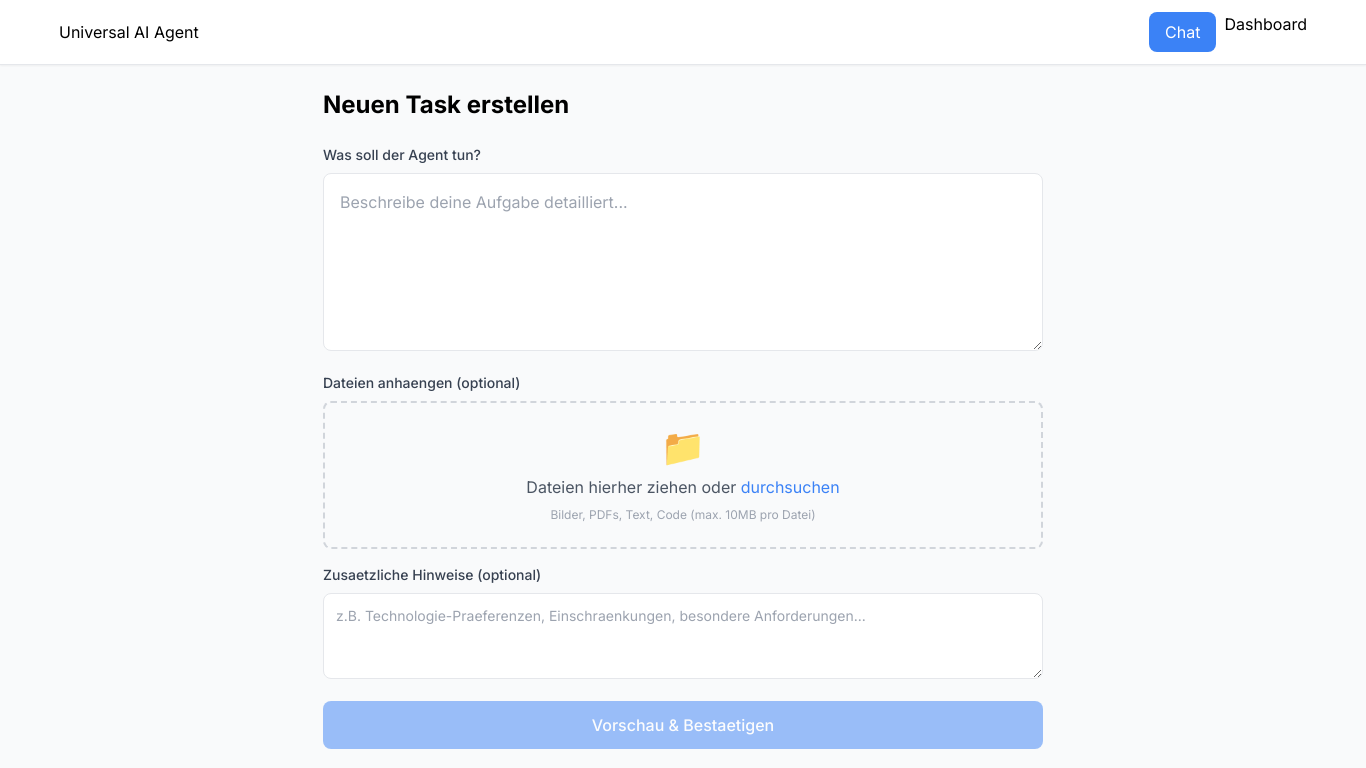
Test case: Chat Page › should show confirmation dialog after submitting
This screenshot has width=1366, height=768.
Type "Erstelle eine React Komponente" into the text box with placeholder "Beschreibe deine Aufgabe detailliert..." at {"x": 683, "y": 262}, box [323,173,1043,351]
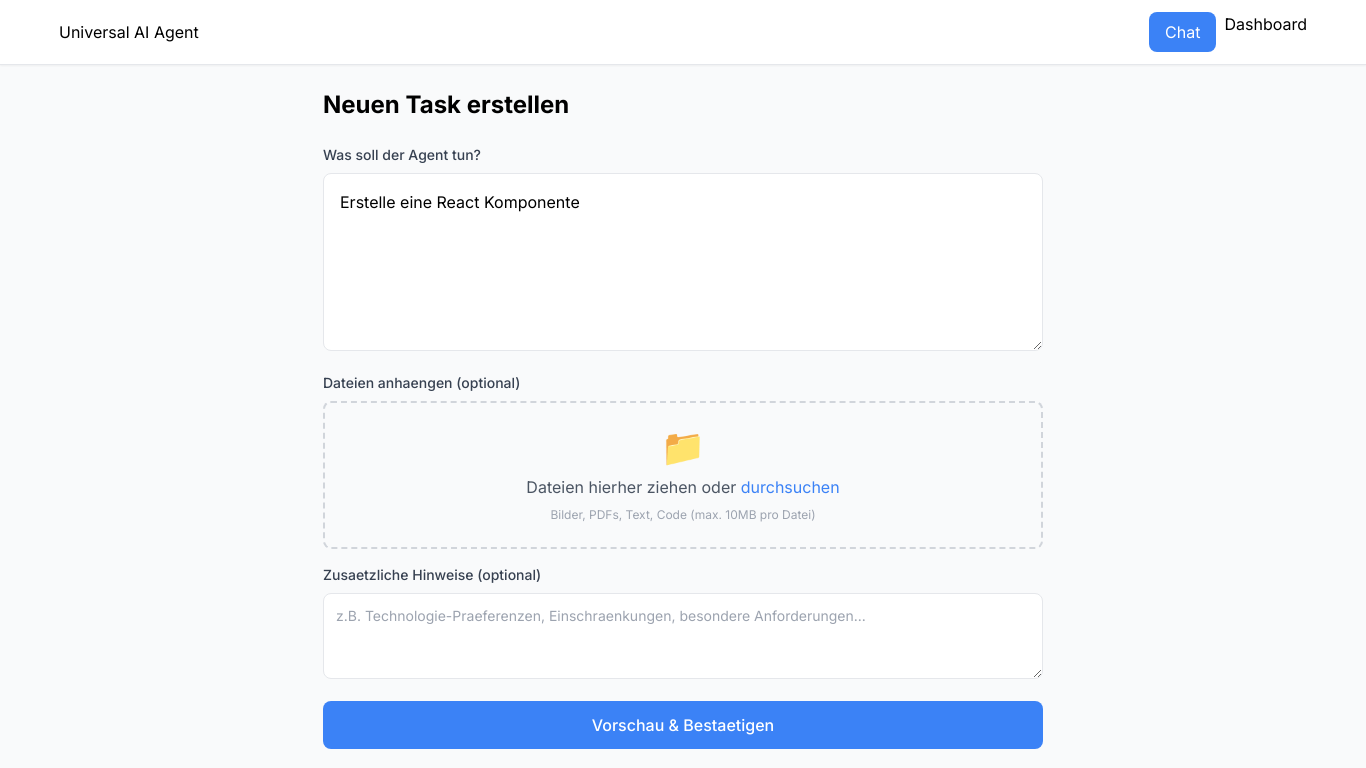
Click the button "Vorschau & Bestaetigen" at {"x": 683, "y": 725}, box [323,701,1043,749]
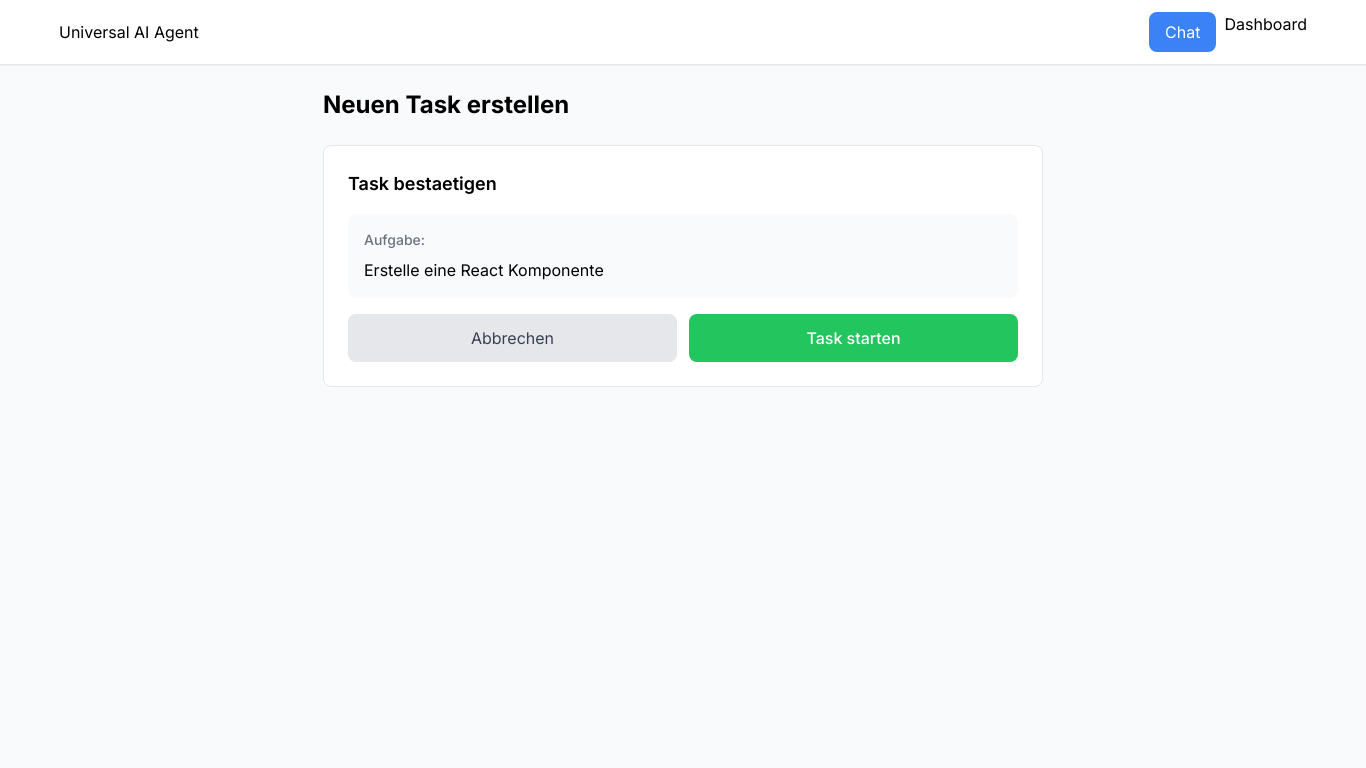
Result: the heading "Task bestaetigen" is shown at [348,173,497,194]
